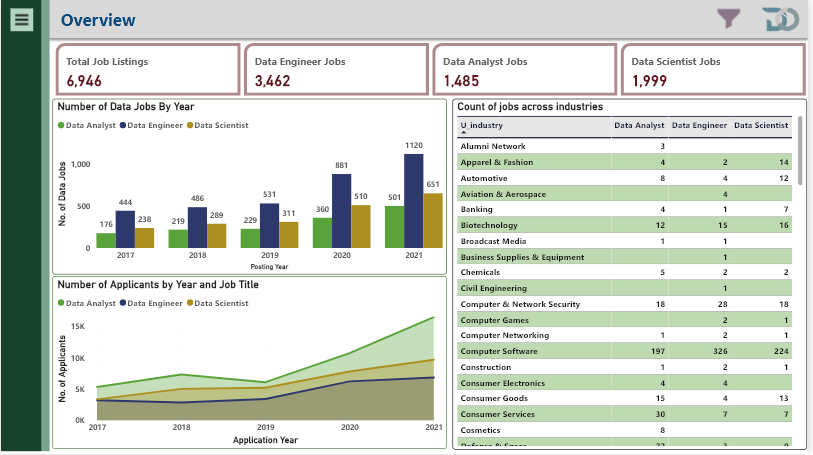

The page's visual inventory and layout, read from the dashboard file:
{"tool":"powerbi","page":{"name":"Overview","canvas":[1280,720],"ordinal":0},"visuals":[{"type":"actionButton","title":"Filter","box":[1130,7.1,51.4,47.1],"z":0},{"type":"areaChart","title":"Number of Applicants by Year and Job Title","fields":{"Category":["DimDate.Year"],"Y":["Sum(job_postings.Number of Applicants)"],"Series":["job_postings.Job Title"]},"box":[81.5,437.1,625.7,274.3],"z":0,"group":"g1"},{"type":"group","id":"g1","title":"Overview_V","box":[81,7.8,1201.4,704.7],"z":1000},{"type":"clusteredColumnChart","title":"Number of Data Jobs By Year","fields":{"Category":["DimDate.Year"],"Y":["CountNonNull(job_postings.Job Title)"],"Series":["job_postings.Job Title"]},"box":[81,155.3,625.7,278.6],"z":1000,"group":"g1"},{"type":"pivotTable","title":"Count of jobs across industries","fields":{"Values":["CountNonNull(job_postings.Job Title)"],"Rows":["job_postings.U_industry"],"Columns":["job_postings.Job Title"]},"box":[715.3,155.3,562.9,557.1],"z":2000,"group":"g1"},{"type":"actionButton","title":"Menu","box":[14.5,13,36.2,36.2],"z":3000},{"type":"cardVisual","title":"Basic Stats","fields":{"Data":["Key_measures.Total Job Listings","Key_measures.Data Engineer Jobs","Key_measures.Data Analyst Jobs","Key_measures.Data Scientist Jobs"]},"box":[81,62.5,1201.4,94.3],"z":3000,"group":"g1"},{"type":"textbox","box":[89.6,7.8,145.7,47.1],"z":4000,"group":"g1"}]}

Visuals, with their boxes in screenshot pixels (x1, y1, x2, y2), scaled from the page's 1280x720 canvas onto the 813x455 screenshot:
"Filter" actionButton: (x1=718, y1=4, x2=750, y2=34)
"Number of Applicants by Year and Job Title" areaChart: (x1=52, y1=276, x2=449, y2=450)
"Overview_V" group: (x1=51, y1=5, x2=812, y2=450)
"Number of Data Jobs By Year" clusteredColumnChart: (x1=51, y1=98, x2=449, y2=274)
"Count of jobs across industries" pivotTable: (x1=454, y1=98, x2=812, y2=450)
"Menu" actionButton: (x1=9, y1=8, x2=32, y2=31)
"Basic Stats" cardVisual: (x1=51, y1=39, x2=812, y2=99)
textbox: (x1=57, y1=5, x2=149, y2=35)
